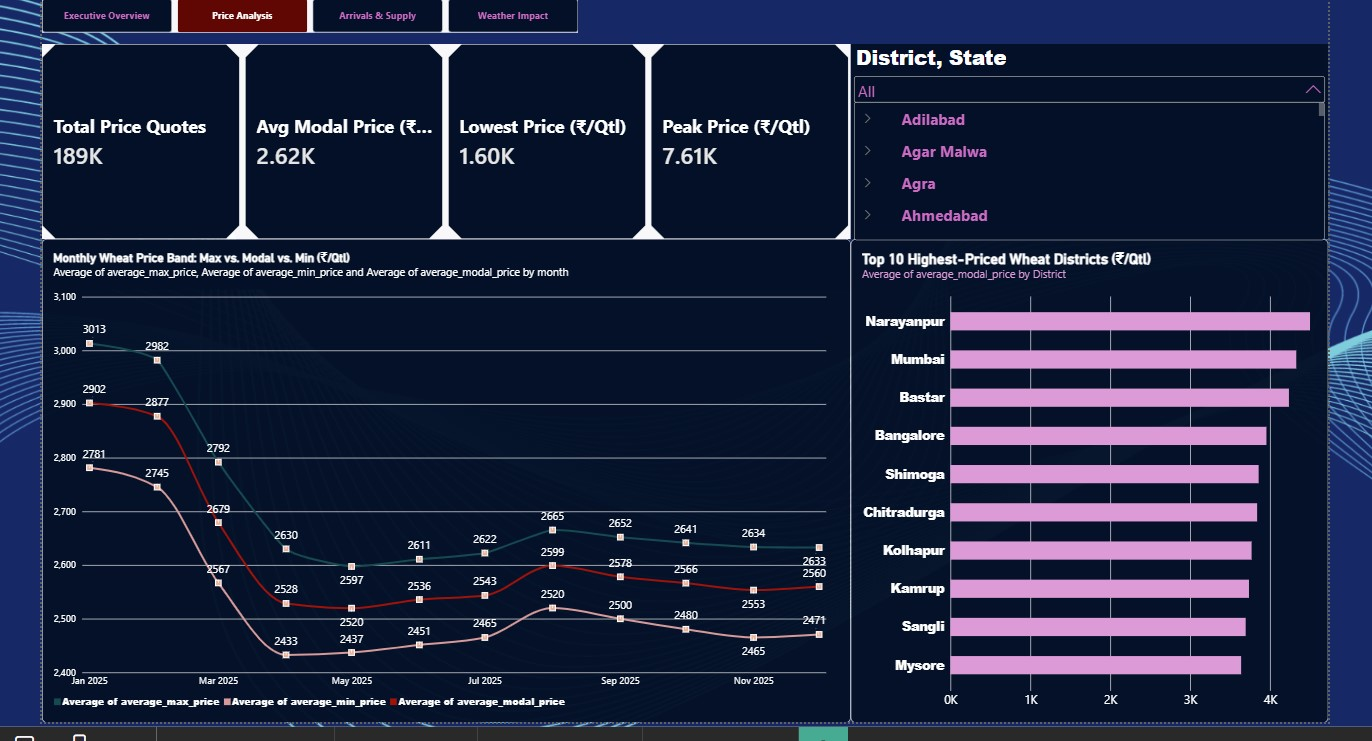

This screenshot's page, from the dashboard's own definition file:
{"tool":"powerbi","page":{"name":"Price Analysis","canvas":[1920,1080],"ordinal":1},"visuals":[{"type":"cardVisual","fields":{"Data":["Sum(monthly_mandi_wheat_prices.price_record_count)","Avg(monthly_mandi_wheat_prices.average_modal_price)","Min(monthly_mandi_wheat_prices.average_min_price)","Max(monthly_mandi_wheat_prices.average_max_price)"]},"box":[0,67.2,1207.3,291.1],"z":0},{"type":"slicer","fields":{"Values":["monthly_mandi_wheat_prices.District","monthly_mandi_wheat_prices.State"]},"box":[1207.3,67.2,712.8,291.1],"z":1000},{"type":"lineChart","title":"Monthly Wheat Price Band: Max vs. Modal vs. Min (₹/Qtl)","fields":{"Category":["monthly_mandi_wheat_prices.month"],"Y":["Avg(monthly_mandi_wheat_prices.average_max_price)","Avg(monthly_mandi_wheat_prices.average_min_price)","Avg(monthly_mandi_wheat_prices.average_modal_price)"]},"box":[0,358.3,1207.3,722.1],"z":2000},{"type":"clusteredBarChart","title":"Top 10 Highest-Priced Wheat Districts (₹/Qtl)","fields":{"Category":["monthly_mandi_wheat_prices.District"],"Y":["Avg(monthly_mandi_wheat_prices.average_modal_price)"]},"box":[1207.3,358.3,712.8,722.1],"z":3000},{"type":"pageNavigator","box":[0,0,800,50],"z":3001}]}

Visuals, with their boxes on the page's 1920x1080 design canvas (x1, y1, x2, y2). These are canvas units, not pixel positions in the 1372x741 screenshot, which may show the page scaled, cropped or inside an application window:
cardVisual - Sum(monthly_mandi_wheat_prices.price_record_count) x Avg(monthly_mandi_wheat_prices.average_modal_price): select_region(0, 67, 1207, 358)
slicer - monthly_mandi_wheat_prices.District x monthly_mandi_wheat_prices.State: select_region(1207, 67, 1920, 358)
"Monthly Wheat Price Band: Max vs. Modal vs. Min (₹/Qtl)" lineChart: select_region(0, 358, 1207, 1080)
"Top 10 Highest-Priced Wheat Districts (₹/Qtl)" clusteredBarChart: select_region(1207, 358, 1920, 1080)
pageNavigator: select_region(0, 0, 800, 50)
